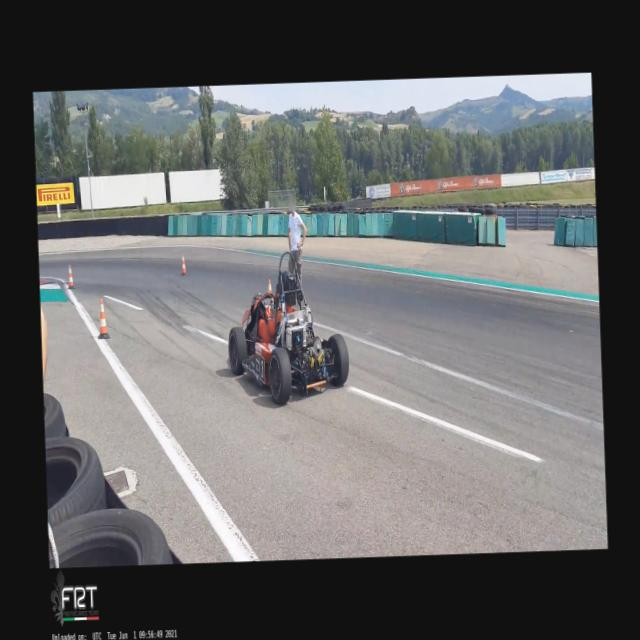large_orange_cone: (96, 298, 110, 338), (66, 264, 76, 288), (180, 253, 188, 275), (267, 278, 271, 292)
